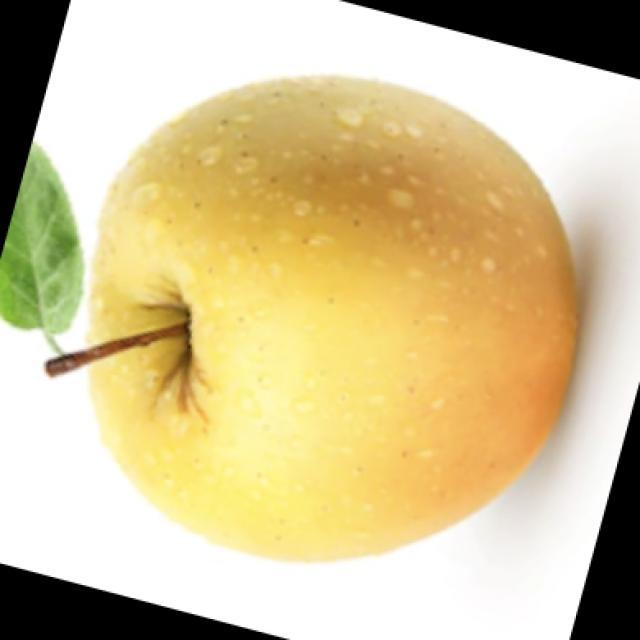Fresh Apple: (112, 76, 580, 546)
